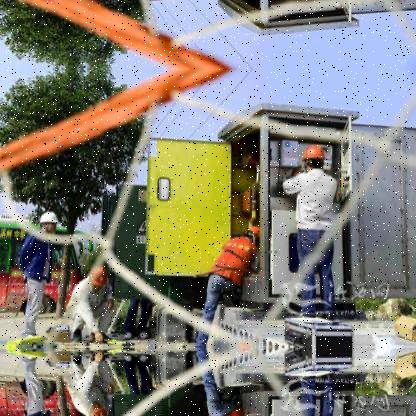Helmet: (305, 136, 327, 172), (32, 203, 58, 230), (88, 262, 108, 290), (244, 223, 262, 250)
